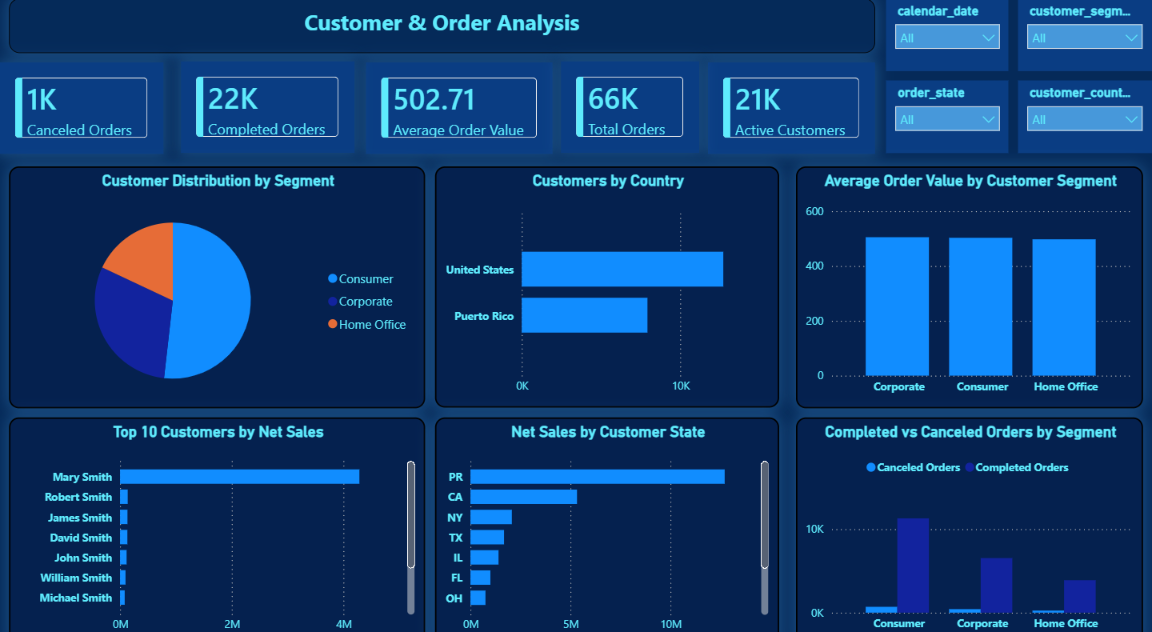

The dashboard page shown, as its layout file describes it:
{"tool":"powerbi","page":{"name":"Customer & Order Analysis","canvas":[1280,720],"ordinal":2},"visuals":[{"type":"textbox","box":[9.7,0,962.6,60.6],"z":0},{"type":"cardVisual","fields":{"Data":["FactOrders.Average Order Value"]},"box":[406.1,71.5,207.3,101.8],"z":1},{"type":"cardVisual","fields":{"Data":["FactOrders.Active Customers"]},"box":[786.8,71.5,185.5,101.8],"z":2},{"type":"cardVisual","fields":{"Data":["FactOrders.Total Orders"]},"box":[623.2,70.3,154,101.8],"z":3},{"type":"cardVisual","fields":{"Data":["FactOrders.Completed Orders"]},"box":[201.3,70.3,192.8,101.8],"z":4},{"type":"cardVisual","fields":{"Data":["FactOrders.Canceled Orders"]},"box":[0,71.5,181.9,101.8],"z":5},{"type":"slicer","fields":{"Values":["DimCustomers.customer_segment"]},"box":[1131.6,0,148.8,81.2],"z":6},{"type":"slicer","fields":{"Values":["DimCustomers.customer_country"]},"box":[1131.6,91.3,148.8,81.2],"z":7},{"type":"slicer","fields":{"Values":["DimDate.calendar_date"]},"box":[984,0,136.4,81.2],"z":8},{"type":"slicer","fields":{"Values":["FactOrders.order_state"]},"box":[984,91.3,136.4,81.2],"z":9},{"type":"pieChart","title":"Customer Distribution by Segment","fields":{"Category":["DimCustomers.customer_segment"],"Y":["FactOrders.Active Customers"]},"box":[10,186.7,462.2,268.9],"z":10},{"type":"clusteredBarChart","title":"Top 10 Customers by Net Sales","fields":{"Category":["DimCustomers.customer_full_name"],"Y":["FactOrders.Booked Net Sales"]},"box":[10,465.6,462.2,254.4],"z":11},{"type":"clusteredBarChart","title":"Customers by Country","fields":{"Y":["FactOrders.Active Customers"],"Category":["DimCustomers.customer_country"]},"box":[483.5,187.1,382.1,268.3],"z":12},{"type":"clusteredBarChart","title":"Net Sales by Customer State","fields":{"Category":["DimCustomers.customer_state"],"Y":["FactOrders.Booked Net Sales"]},"box":[483.5,465.5,382.1,254.7],"z":13},{"type":"clusteredColumnChart","title":"Average Order Value by Customer Segment","fields":{"Category":["DimCustomers.customer_segment"],"Y":["FactOrders.Average Order Value"]},"box":[884.4,186.7,385.6,268.9],"z":14},{"type":"clusteredColumnChart","title":"Completed vs Canceled Orders by Segment","fields":{"Category":["DimCustomers.customer_segment"],"Y":["FactOrders.Canceled Orders","FactOrders.Completed Orders"]},"box":[884.4,465.6,385.6,253.3],"z":15}]}

Visuals, with their boxes in screenshot pixels (x1, y1, x2, y2), scaled from the page's 1280x720 canvas onto the 1152x632 screenshot:
textbox: (9,0,875,53)
cardVisual - FactOrders.Average Order Value: (365,63,552,152)
cardVisual - FactOrders.Active Customers: (708,63,875,152)
cardVisual - FactOrders.Total Orders: (561,62,699,151)
cardVisual - FactOrders.Completed Orders: (181,62,355,151)
cardVisual - FactOrders.Canceled Orders: (0,63,164,152)
slicer - DimCustomers.customer_segment: (1018,0,1151,71)
slicer - DimCustomers.customer_country: (1018,80,1151,151)
slicer - DimDate.calendar_date: (886,0,1008,71)
slicer - FactOrders.order_state: (886,80,1008,151)
"Customer Distribution by Segment" pieChart: (9,164,425,400)
"Top 10 Customers by Net Sales" clusteredBarChart: (9,409,425,631)
"Customers by Country" clusteredBarChart: (435,164,779,400)
"Net Sales by Customer State" clusteredBarChart: (435,409,779,631)
"Average Order Value by Customer Segment" clusteredColumnChart: (796,164,1143,400)
"Completed vs Canceled Orders by Segment" clusteredColumnChart: (796,409,1143,631)
